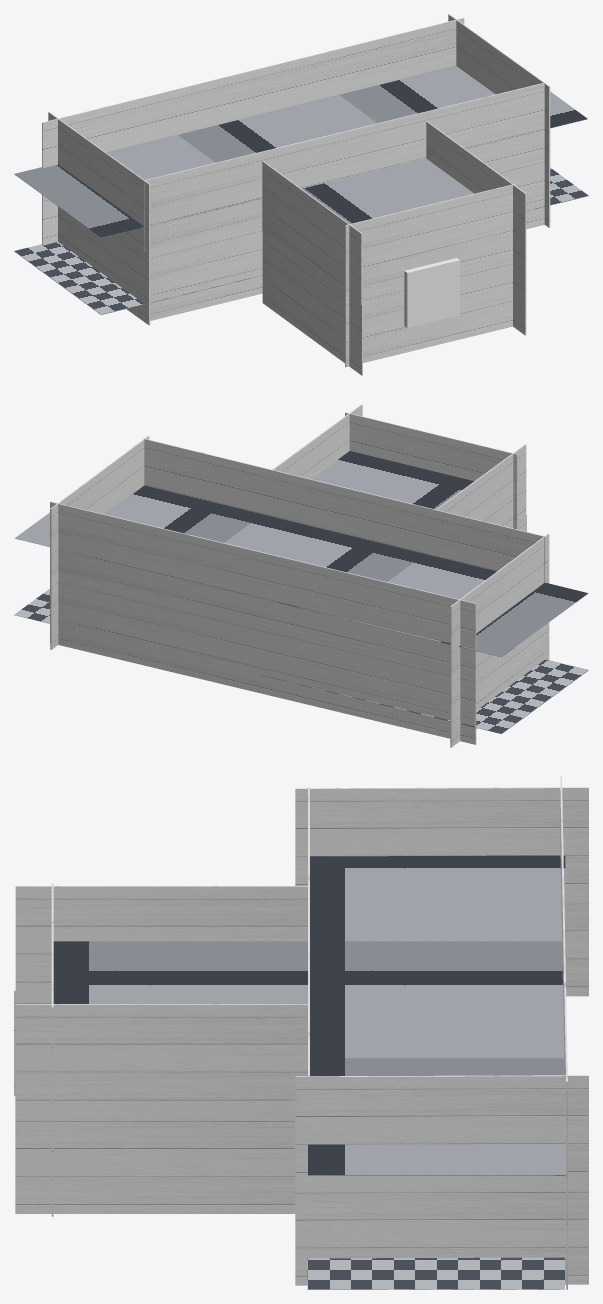
The model's file is scene-2-light.fbx.
3 renders of one model, top to bottom at view 1: azimuth 30°, elevation 25°; view 2: azimuth 150°, elevation 25°; view 3: azimuth 270°, elevation 25°, orthographic. The views are drawn at different scales.
Parts seen in each view (by area): view 1: Cube.014, Cube.043, Cube.013, Cube.002, Cube.001, Cube.011, Cube.004, Cube.015, Cube.020, Cube.019, Cube.021, Cube.040 (+10 smaller); view 2: Cube.043, Cube.044, Cube.014, Cube.015, Cube.020, Cube.013, Cube.021, Cube.019, Cube.040, Cube.022, Cube.011, Cube.041 (+4 smaller); view 3: Cube.012, Cube.020, Cube.003, Cube.042, Cube.041, Cube.015, Cube.040, Cube.011, Cube.019, Cube.021, Cube.018, Cube.039 (+3 smaller).
Boxes of the visible parts, left/top/right/bottom form: Cube.014: left=143, top=82, right=545, bottom=251; Cube.043: left=42, top=17, right=464, bottom=168; Cube.013: left=345, top=183, right=517, bottom=296; Cube.002: left=345, top=256, right=512, bottom=367; Cube.001: left=150, top=223, right=262, bottom=320; Cube.011: left=262, top=161, right=362, bottom=304; Cube.004: left=262, top=232, right=362, bottom=375; Cube.015: left=14, top=135, right=262, bottom=237; Cube.020: left=178, top=95, right=377, bottom=162; Cube.019: left=302, top=158, right=473, bottom=223; Cube.021: left=339, top=66, right=587, bottom=148; Cube.040: left=48, top=112, right=150, bottom=255; Cube.043: left=50, top=501, right=476, bottom=674; Cube.044: left=50, top=572, right=476, bottom=744; Cube.014: left=144, top=438, right=545, bottom=582; Cube.015: left=339, top=554, right=588, bottom=657; Cube.020: left=224, top=514, right=424, bottom=617; Cube.013: left=345, top=412, right=517, bottom=525; Cube.021: left=14, top=485, right=262, bottom=546; Cube.019: left=311, top=451, right=473, bottom=509; Cube.040: left=450, top=533, right=549, bottom=677; Cube.022: left=339, top=659, right=588, bottom=733; Cube.011: left=436, top=444, right=526, bottom=527; Cube.041: left=50, top=435, right=149, bottom=579; Cube.012: left=15, top=1004, right=307, bottom=1109; Cube.020: left=310, top=941, right=565, bottom=1058; Cube.003: left=15, top=1109, right=295, bottom=1213; Cube.042: left=295, top=1179, right=588, bottom=1285; Cube.041: left=295, top=1075, right=588, bottom=1180; Cube.015: left=310, top=855, right=565, bottom=941; Cube.040: left=295, top=787, right=588, bottom=891; Cube.011: left=15, top=886, right=307, bottom=991; Cube.019: left=53, top=941, right=307, bottom=1003; Cube.021: left=308, top=1058, right=565, bottom=1175; Cube.018: left=307, top=1257, right=564, bottom=1289; Cube.039: left=565, top=891, right=588, bottom=996.
Bounding box in the file's own units: 9227 × 2728 × 6377.
